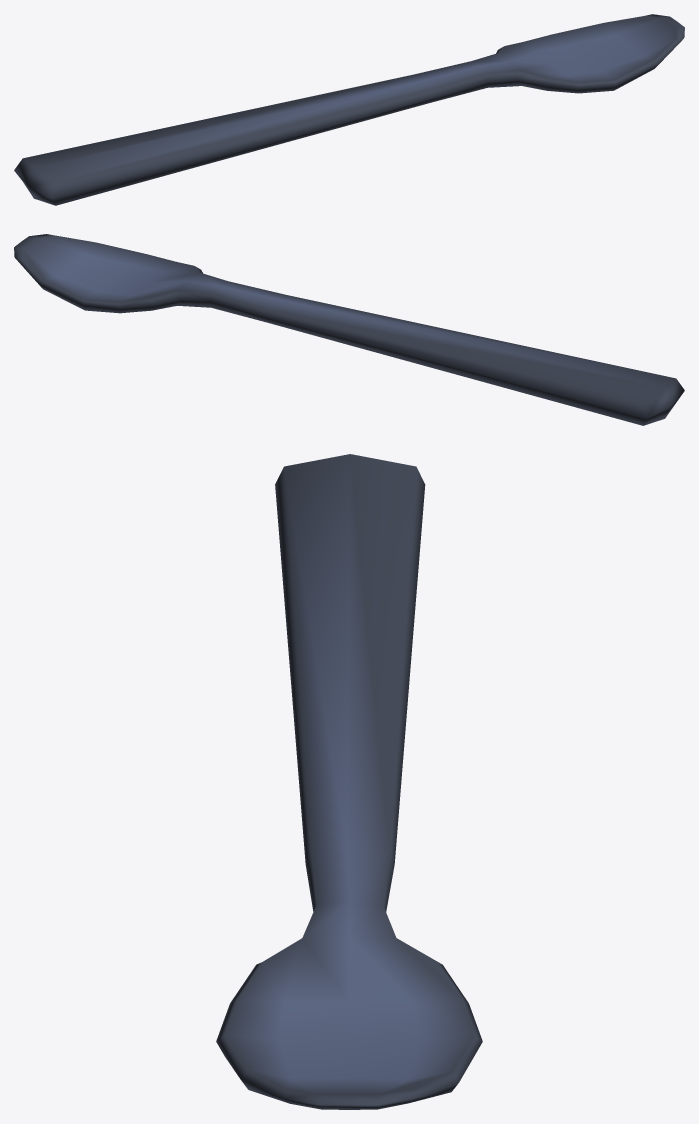
Rendered from spoon.fbx.
The picture shows the model from 3 angles, top to bottom: view 1: azimuth 30°, elevation 25°; view 2: azimuth 150°, elevation 25°; view 3: azimuth 270°, elevation 25°; orthographic projection. The views are drawn at different scales.
Parts seen in each view (by area): view 1: pCube11; view 2: pCube11; view 3: pCube11.
Boxes of the visible parts, bbox=[...] form: pCube11: bbox=[14, 14, 684, 205]; pCube11: bbox=[14, 234, 684, 425]; pCube11: bbox=[216, 454, 482, 1109].
Bounding box in the file's own units: 334 × 17.55 × 59.33.
